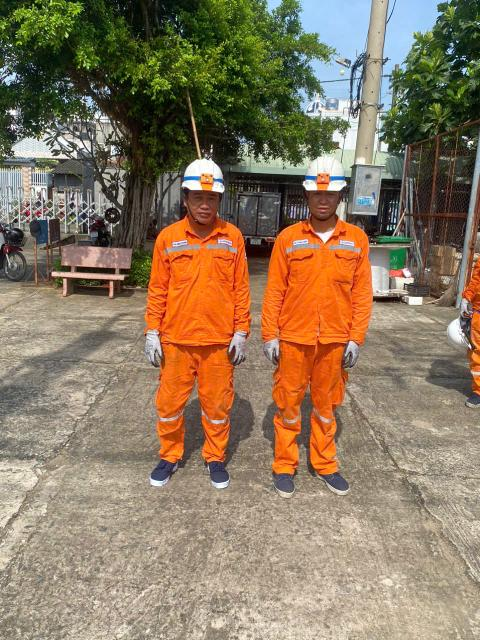gloves: (138, 325, 177, 378), (224, 321, 255, 378), (338, 331, 374, 372), (261, 331, 289, 367), (452, 296, 476, 333)
helmet: (173, 158, 239, 208), (298, 148, 353, 204), (441, 315, 473, 358)
shoes: (137, 443, 191, 494), (194, 453, 246, 499), (260, 458, 302, 502), (311, 462, 353, 492), (458, 381, 480, 416)
